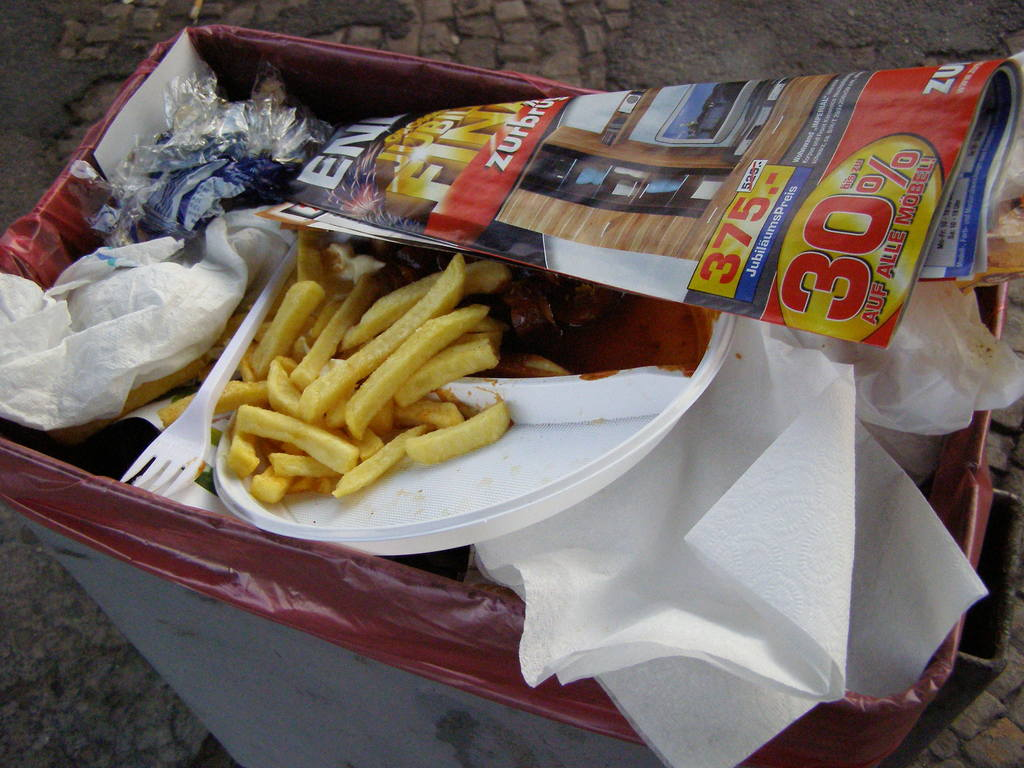French fries: (213, 247, 514, 512)
